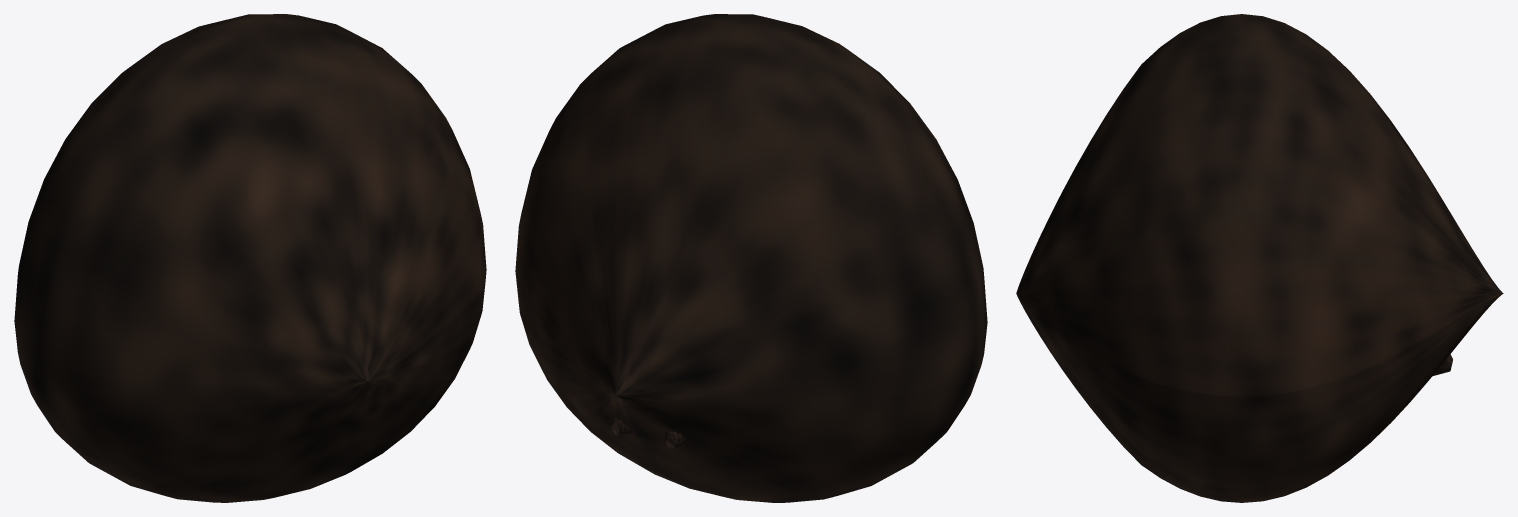
The model's file is Spinne_Abdomen.fbx.
The picture shows the model from 3 angles, left to right: view 1: azimuth 30°, elevation 25°; view 2: azimuth 150°, elevation 25°; view 3: azimuth 270°, elevation 25°; orthographic projection. The views are drawn at different scales.
Visible parts, largest first — view 1: Spinne_Abdomen; view 2: Spinne_Abdomen; view 3: Spinne_Abdomen.
Boxes of the visible parts, x1,y1,x2,y2 form: Spinne_Abdomen: (14,14,486,502); Spinne_Abdomen: (515,14,987,502); Spinne_Abdomen: (1016,14,1503,502).
Bounding box in the file's own units: 1 × 1 × 1.
